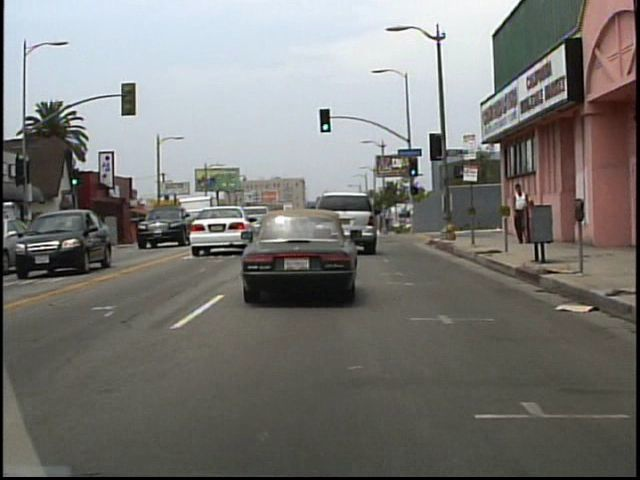person: (509, 179, 531, 244)
